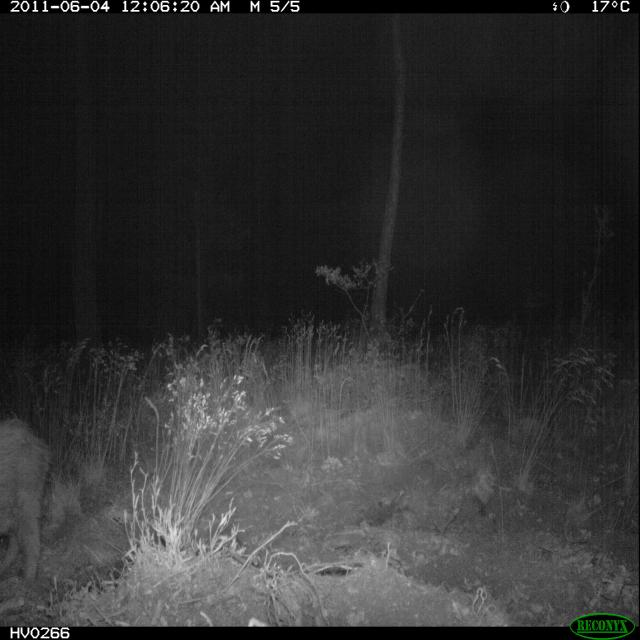boar: (0, 401, 73, 610)
